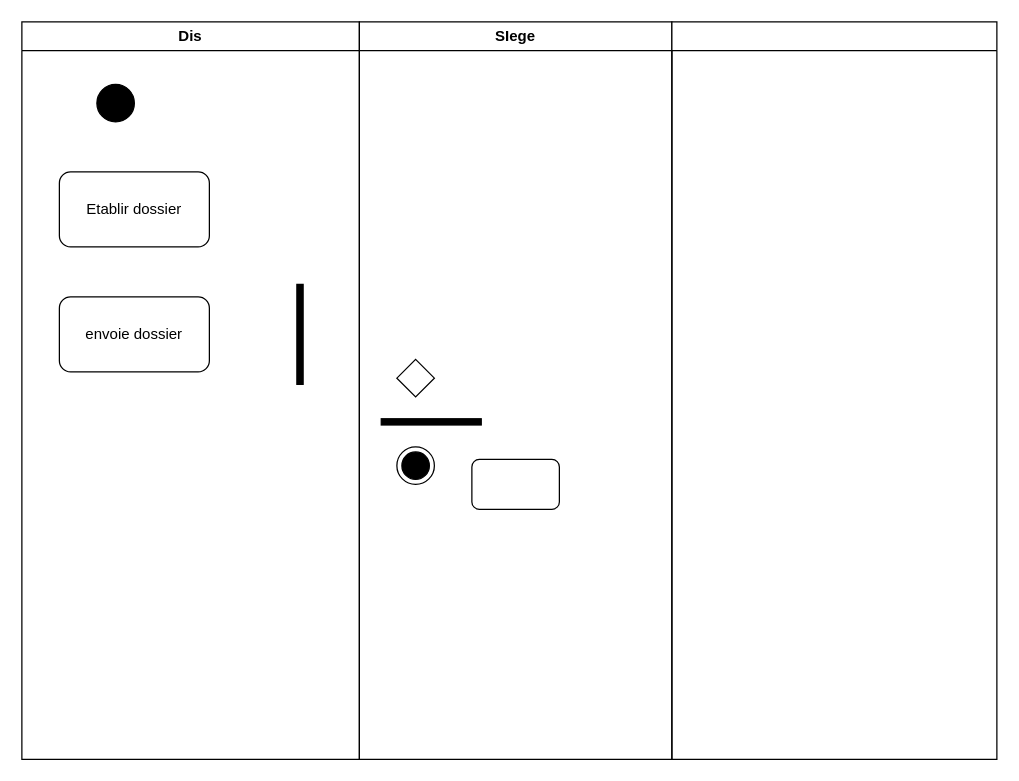
This 1019x781 diagram has some shape labels left out. Each missing label, with the centre of its shape:
"Bank" belongs at [834,390].
"Prévient bank" belongs at [515,483].
